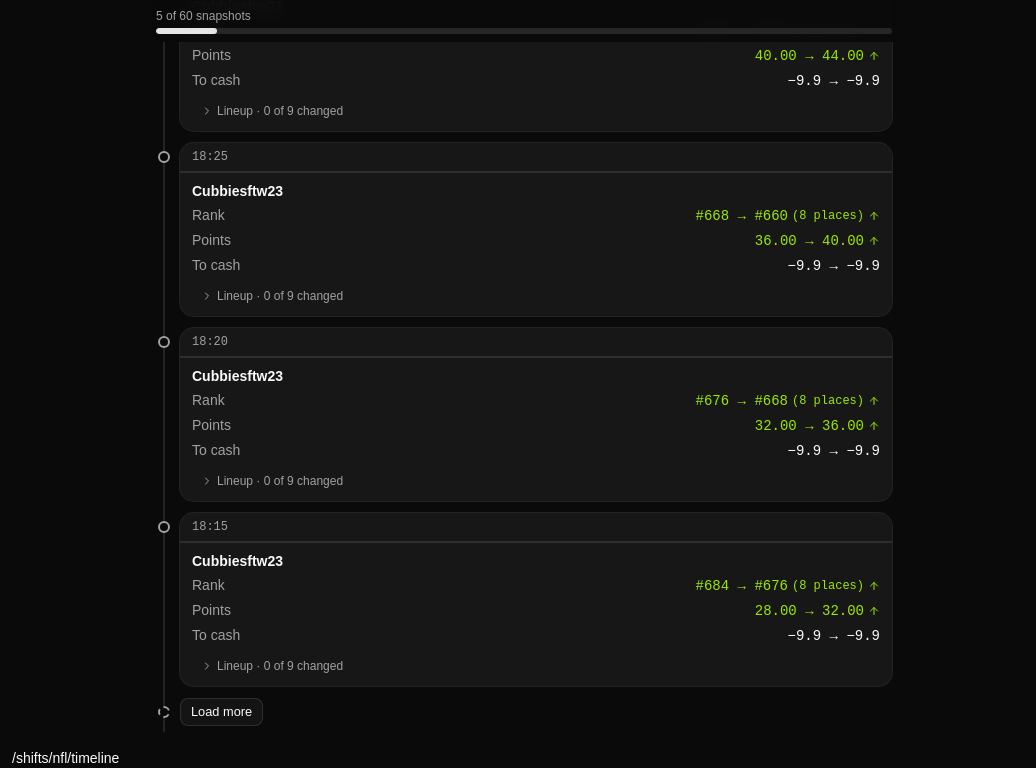
Test: the Timeline tab › range and Load more › ends at the loaded history with a "From HH:MM" note and no Load more
(page scrolled)
Click the button "Load more": (222, 712) x1=180 y1=698 x2=263 y2=726
(page scrolled)
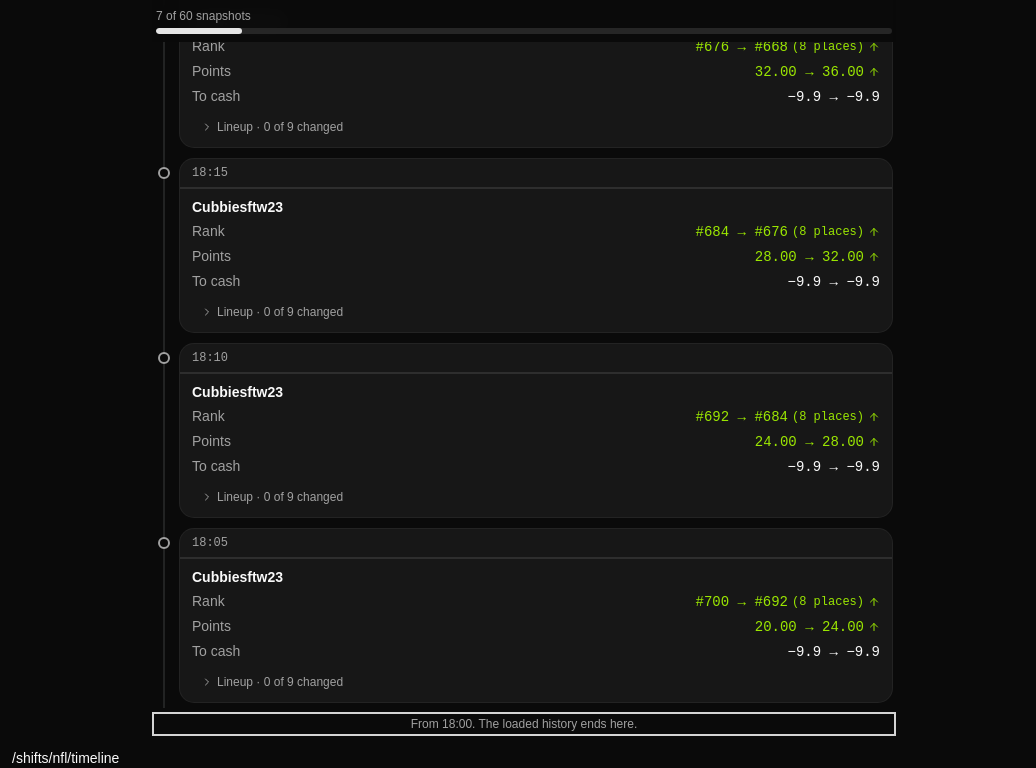
Result: the button "Load more" is gone
